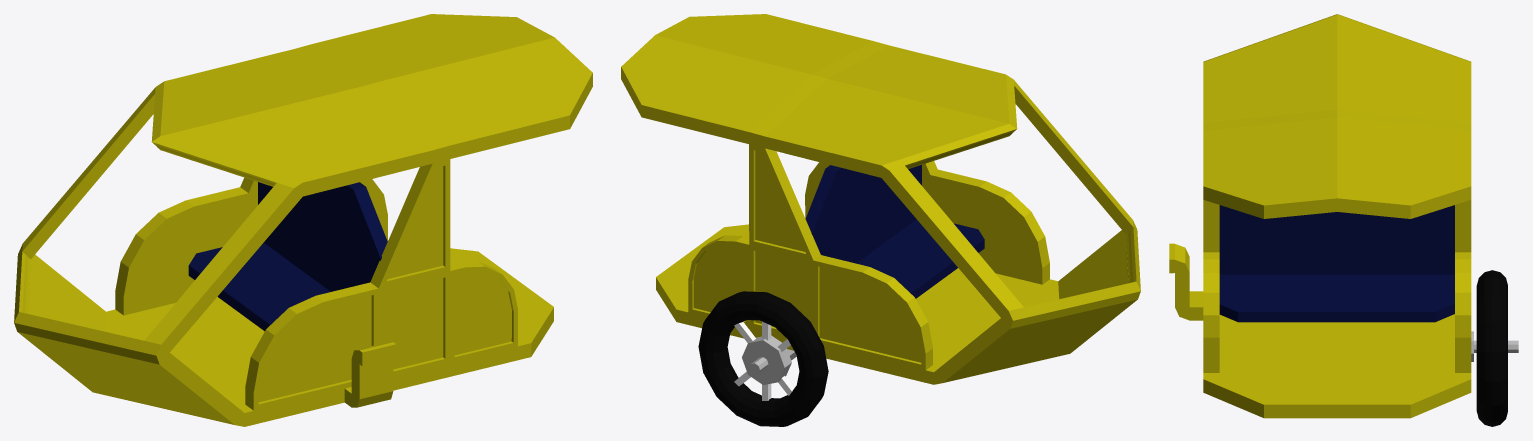
File: Sidecar_4.fbx
The picture shows the model from 3 angles, left to right: view 1: azimuth 30°, elevation 25°; view 2: azimuth 150°, elevation 25°; view 3: azimuth 270°, elevation 25°; orthographic projection. The views are drawn at different scales.
Parts seen in each view (by area): view 1: Cube.003; view 2: Cube.003; view 3: Cube.003.
Part boxes in pixels (left/top/right/bottom): Cube.003: left=14, top=14, right=592, bottom=426; Cube.003: left=621, top=14, right=1140, bottom=426; Cube.003: left=1169, top=14, right=1518, bottom=426.
Bounding box in the file's own units: 269 × 155 × 156.
